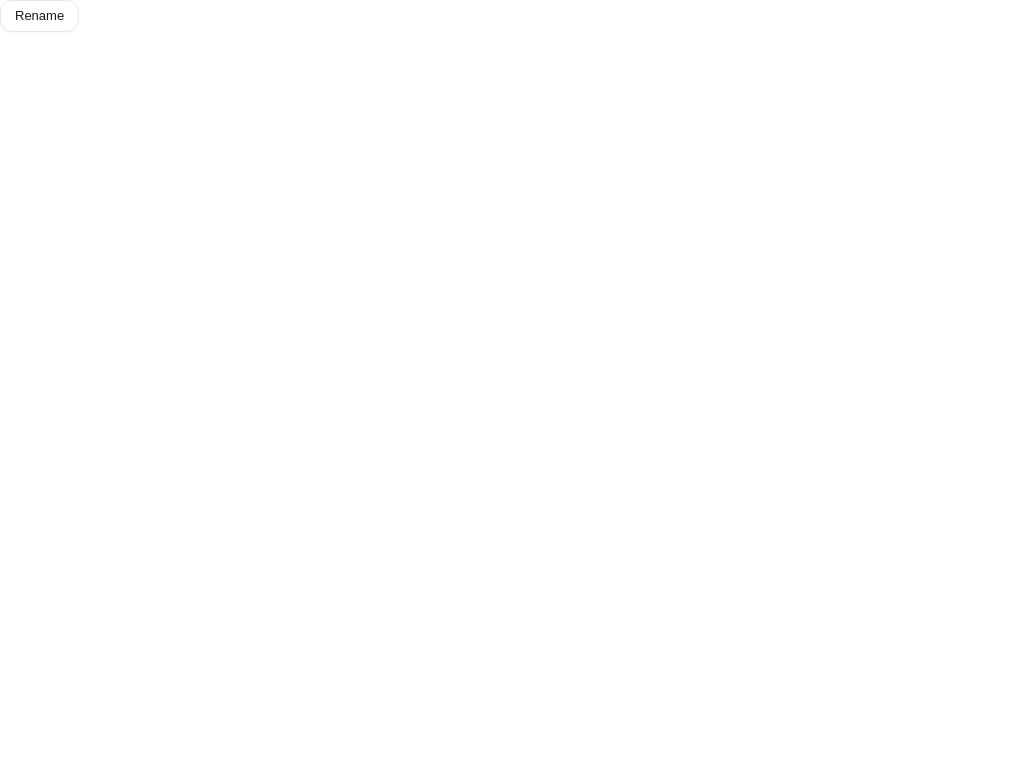
Test: Button component with fields › asks for its values, starting from the object's, and sends them
This screenshot has width=1024, height=768.
Later steps or results of the test are not shown.
Click the button "Rename" at (40, 16), box [0, 0, 79, 32]
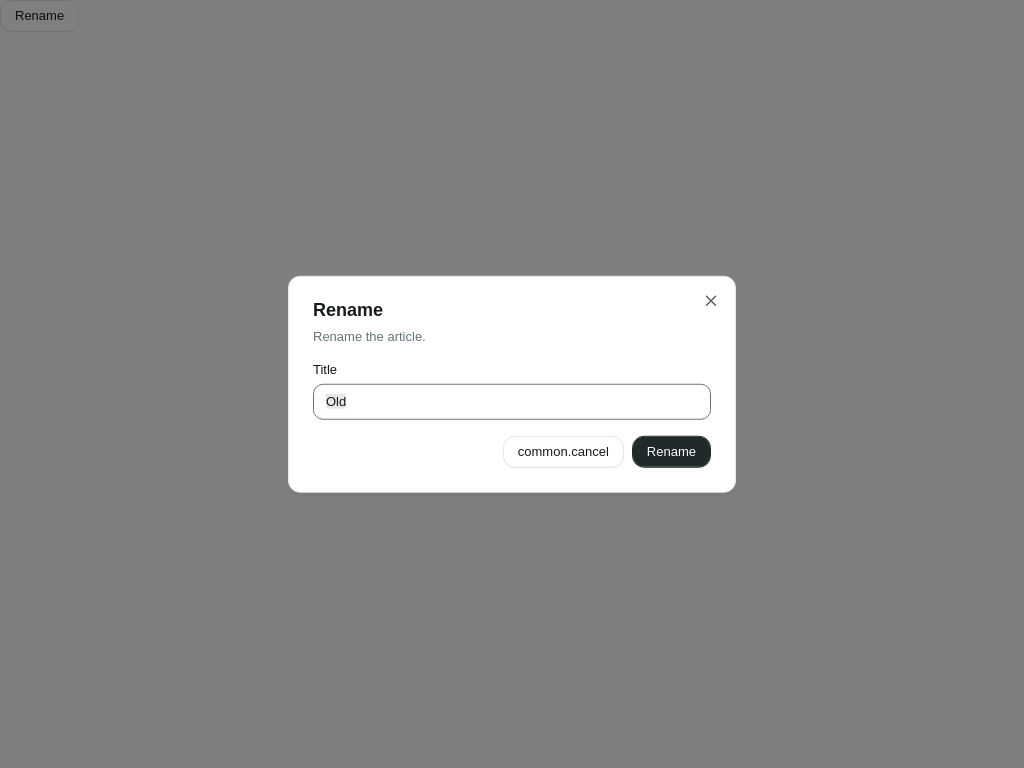
Check: the text "Rename the article." is shown, box [313, 329, 426, 344]
Check: the field holds "Old", box [313, 383, 711, 419]
